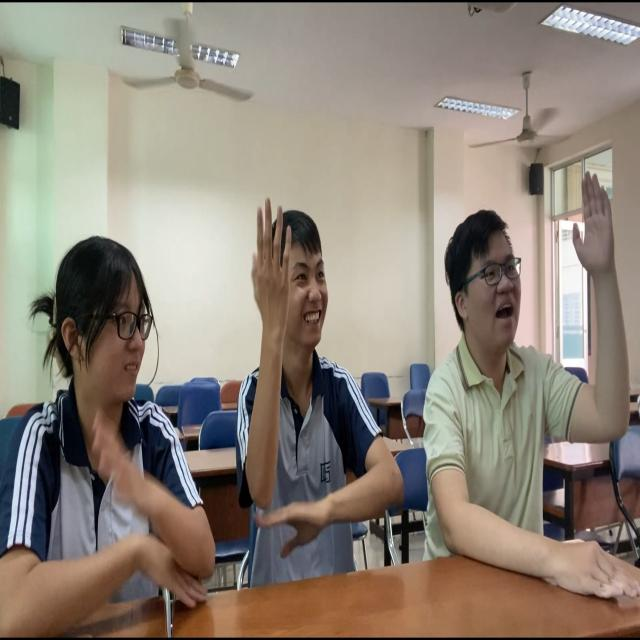raise_hand: (405, 120, 640, 640), (1, 155, 229, 640)
